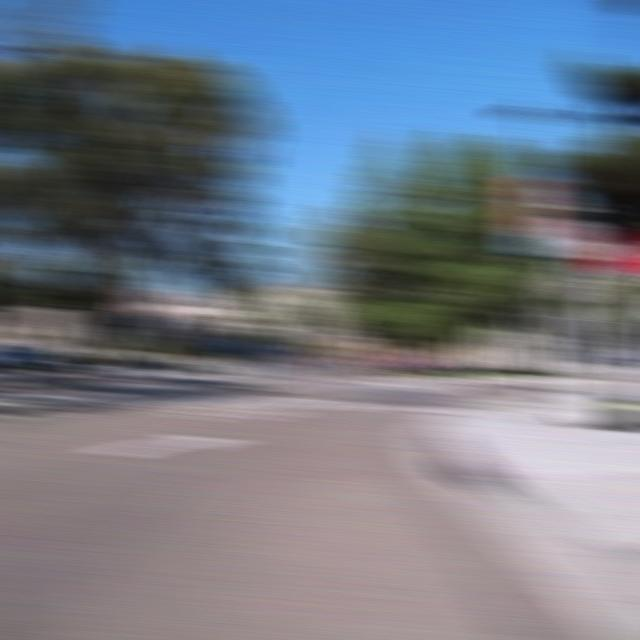stop_sign: (581, 222, 640, 277)
